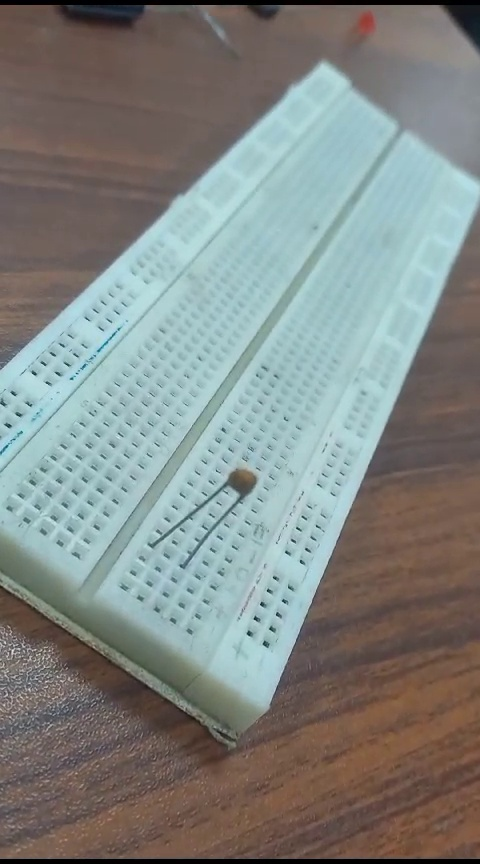ceramic capacitor: (148, 452, 267, 588)
